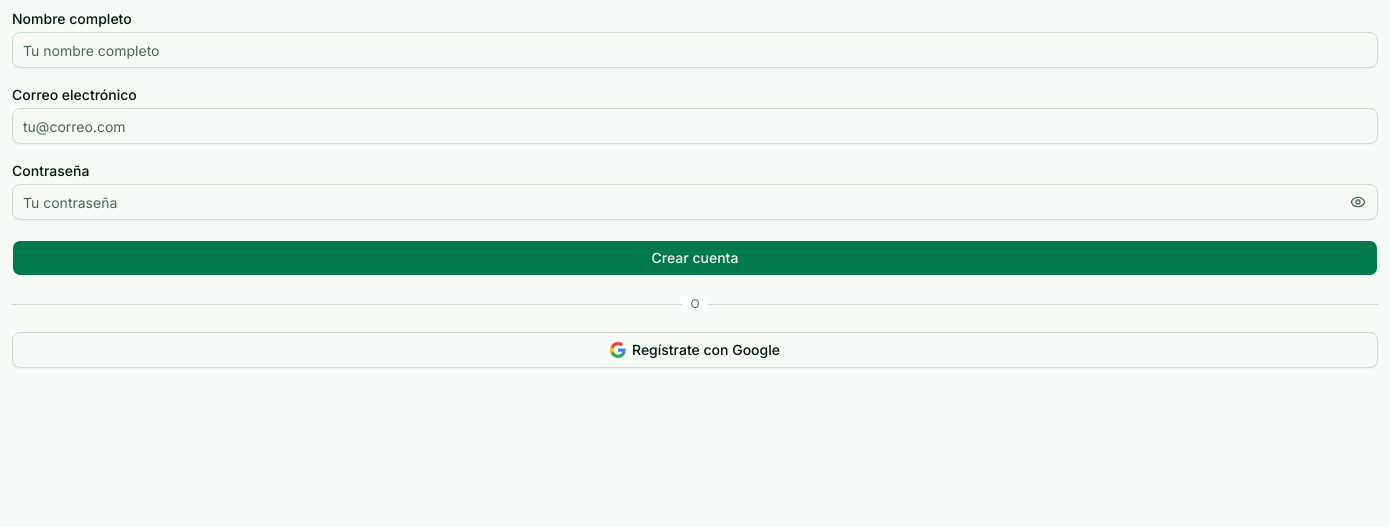
Test: SignupForm › disables the submit button and shows the pending label while the action is in flight
Type "Ana Pérez" into the field labelled "Nombre completo". click: (695, 50)
box: [12, 32, 1378, 68]
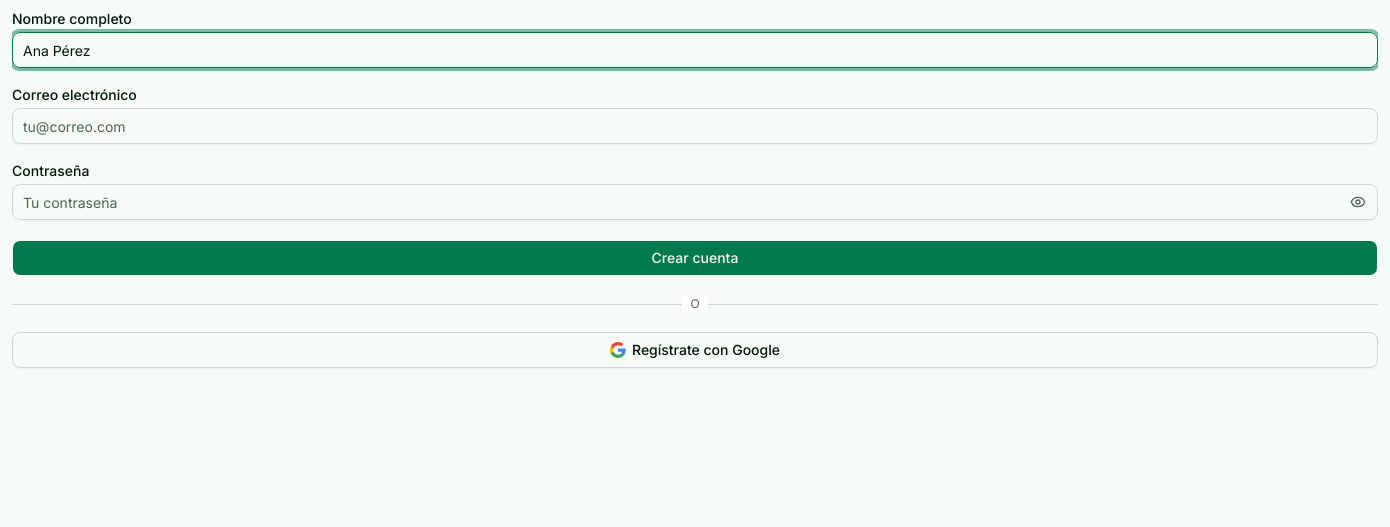
Type "ana@example.com" into the field labelled "Correo electrónico". click: (695, 126)
box: [12, 108, 1378, 144]
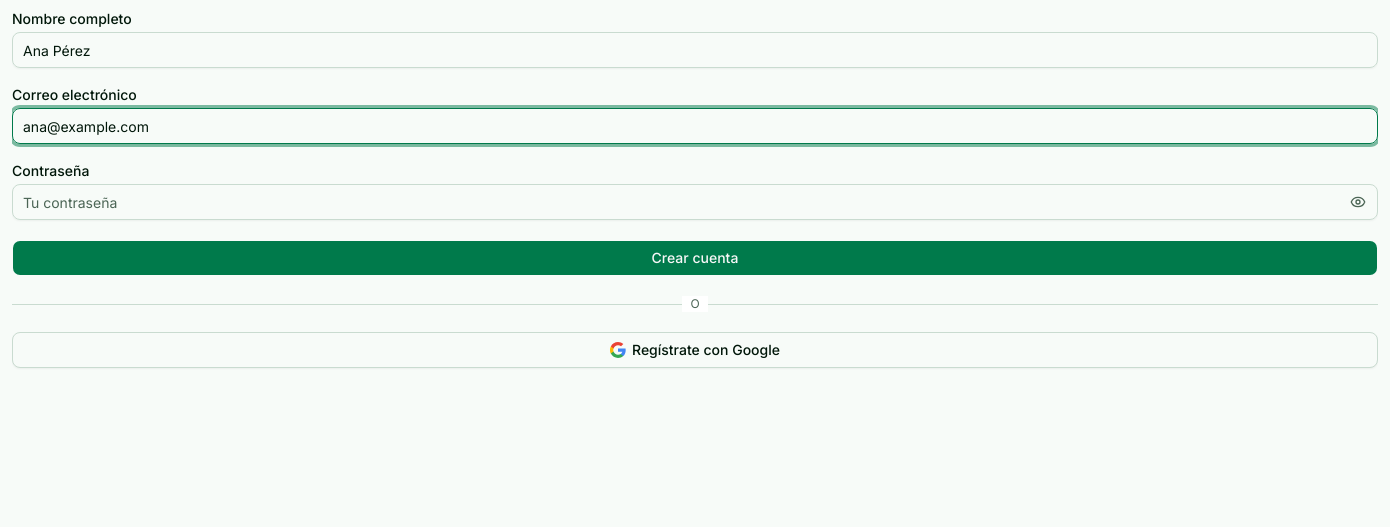
Type "Correcta1!" into the password field labelled "Contraseña". click: (695, 202)
box: [12, 184, 1378, 220]
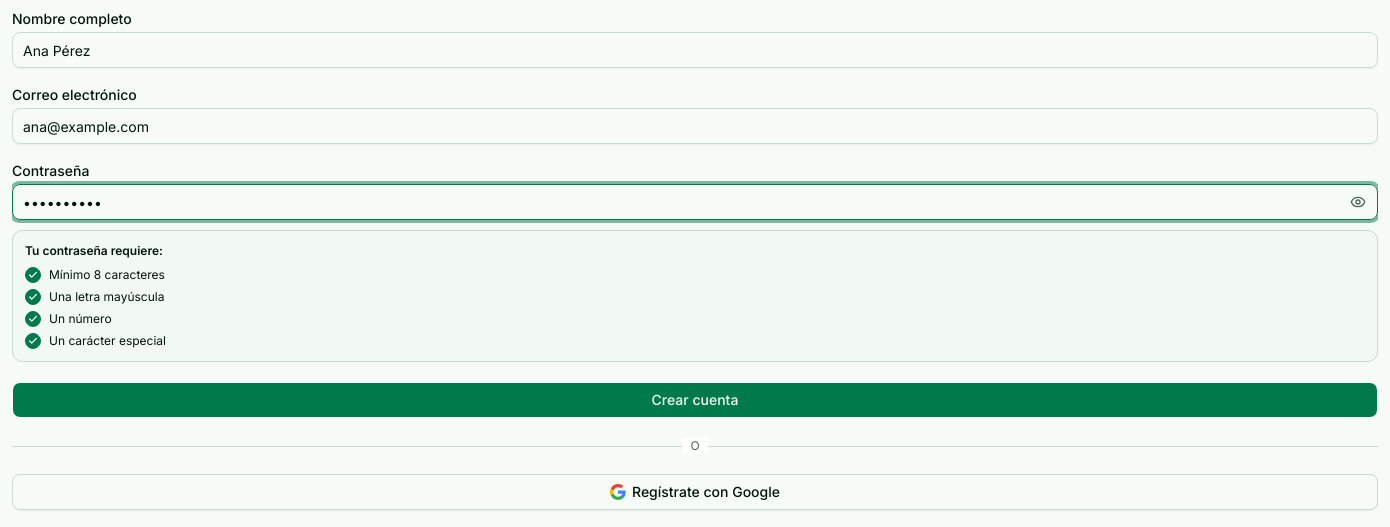
Click the button "Crear cuenta". click: (695, 400)
box: [12, 382, 1378, 418]
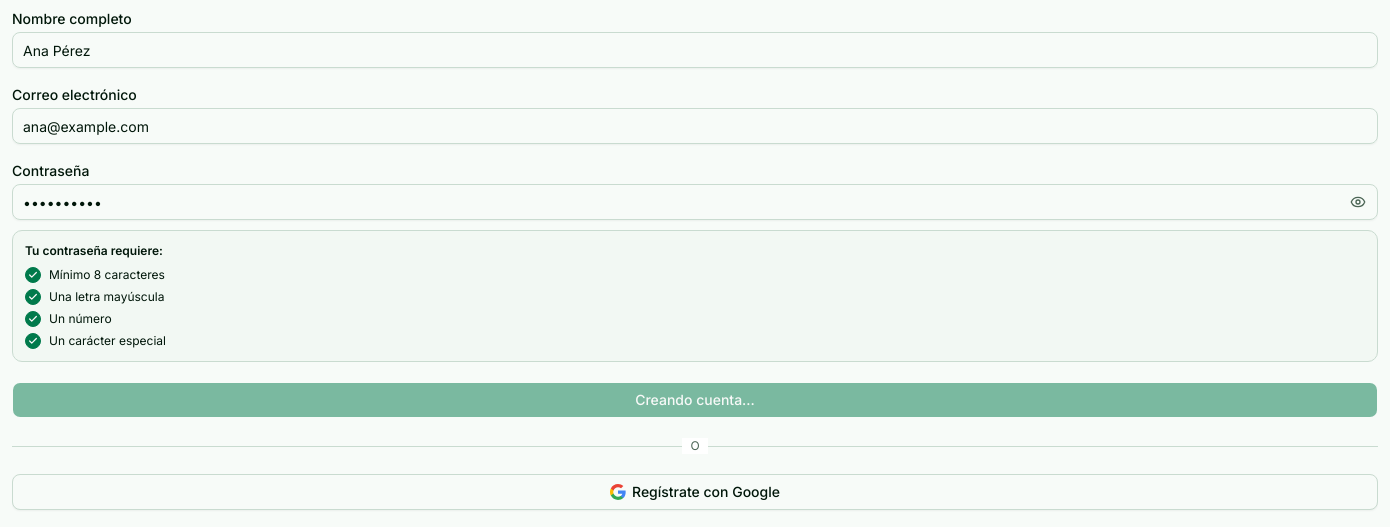
Expected: the button "Creando cuenta..." is disabled, [12, 382, 1378, 418]
